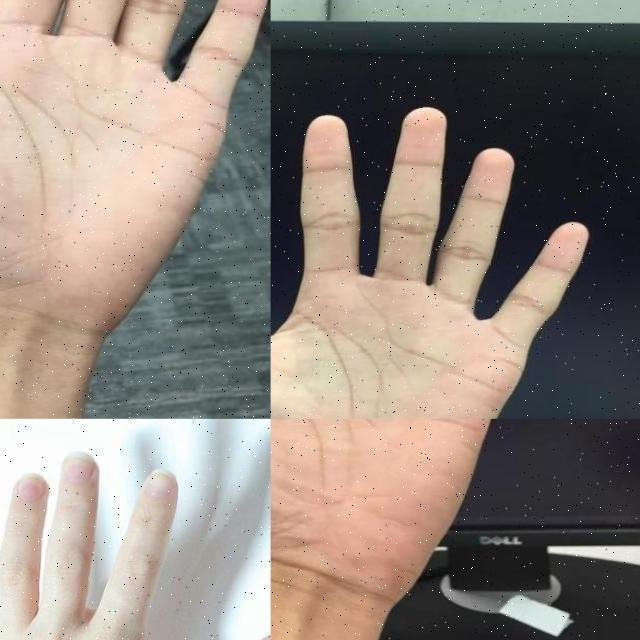hand: (270, 101, 592, 419), (1, 0, 270, 317), (270, 419, 516, 639), (0, 444, 270, 640)
